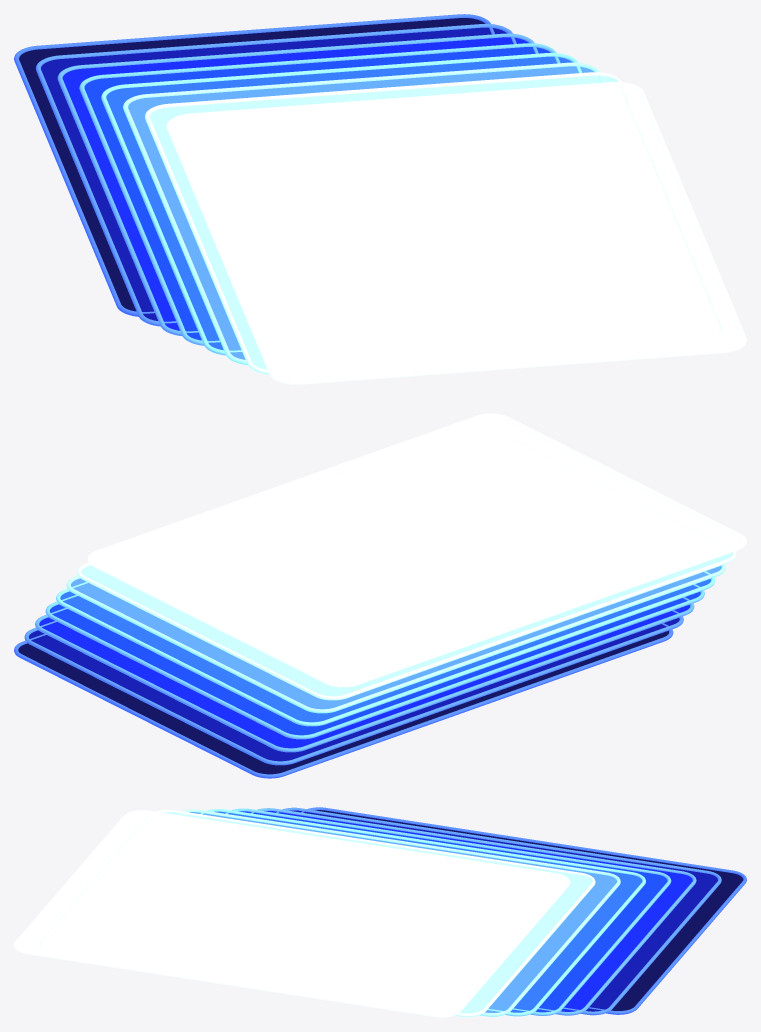
Rendered from layers.glb.
3 views of the same model, one above another, from view 1: azimuth 30°, elevation 25°; view 2: azimuth 150°, elevation 25°; view 3: azimuth 270°, elevation 25° (orthographic). The views are drawn at different scales.
Visible parts, largest first — view 1: Plate_7, Halo_7, Plate_0, Plate_5, Plate_2, Plate_3, Plate_4, Plate_6, Plate_1, Halo_6, Halo_2, Halo_5 (+4 smaller); view 2: Plate_7, Halo_7, Plate_0, Plate_2, Plate_6, Plate_4, Plate_5, Plate_1, Plate_3, Halo_6, Halo_0, Halo_4 (+4 smaller); view 3: Plate_7, Halo_7, Plate_0, Plate_6, Plate_1, Plate_3, Plate_4, Plate_5, Plate_2, Halo_6, Halo_1, Halo_4 (+4 smaller).
Boxes of the visible parts, left/top/right/bottom form: Plate_7: left=171, top=85, right=741, bottom=379; Halo_7: left=166, top=82, right=746, bottom=384; Plate_0: left=19, top=18, right=484, bottom=311; Plate_5: left=128, top=66, right=593, bottom=359; Plate_2: left=62, top=37, right=528, bottom=330; Plate_3: left=84, top=47, right=550, bottom=340; Plate_4: left=106, top=56, right=571, bottom=350; Plate_6: left=150, top=76, right=615, bottom=369; Plate_1: left=41, top=27, right=506, bottom=320; Halo_6: left=145, top=72, right=724, bottom=374; Halo_2: left=57, top=33, right=538, bottom=335; Halo_5: left=123, top=62, right=603, bottom=365; Plate_7: left=92, top=416, right=742, bottom=683; Halo_7: left=87, top=413, right=746, bottom=687; Plate_0: left=18, top=631, right=668, bottom=774; Plate_2: left=39, top=605, right=689, bottom=748; Plate_6: left=81, top=553, right=731, bottom=696; Plate_4: left=60, top=579, right=710, bottom=722; Plate_5: left=71, top=566, right=721, bottom=709; Plate_1: left=29, top=618, right=679, bottom=761; Plate_3: left=50, top=592, right=700, bottom=735; Halo_6: left=77, top=426, right=736, bottom=700; Halo_0: left=14, top=623, right=673, bottom=778; Halo_4: left=56, top=571, right=715, bottom=726; Plate_7: left=17, top=813, right=566, bottom=1013; Halo_7: left=14, top=810, right=570, bottom=1017; Plate_0: left=315, top=810, right=743, bottom=1010; Plate_6: left=164, top=812, right=591, bottom=1013; Plate_1: left=290, top=810, right=717, bottom=1011; Plate_3: left=239, top=811, right=667, bottom=1012; Plate_4: left=215, top=811, right=642, bottom=1012; Plate_5: left=189, top=812, right=616, bottom=1012; Plate_2: left=264, top=811, right=692, bottom=1011; Halo_6: left=40, top=809, right=595, bottom=1017; Halo_1: left=276, top=807, right=721, bottom=1015; Halo_4: left=200, top=809, right=645, bottom=1016.
Bounding box in the file's own units: 43.64 × 1.14 × 62.28.
